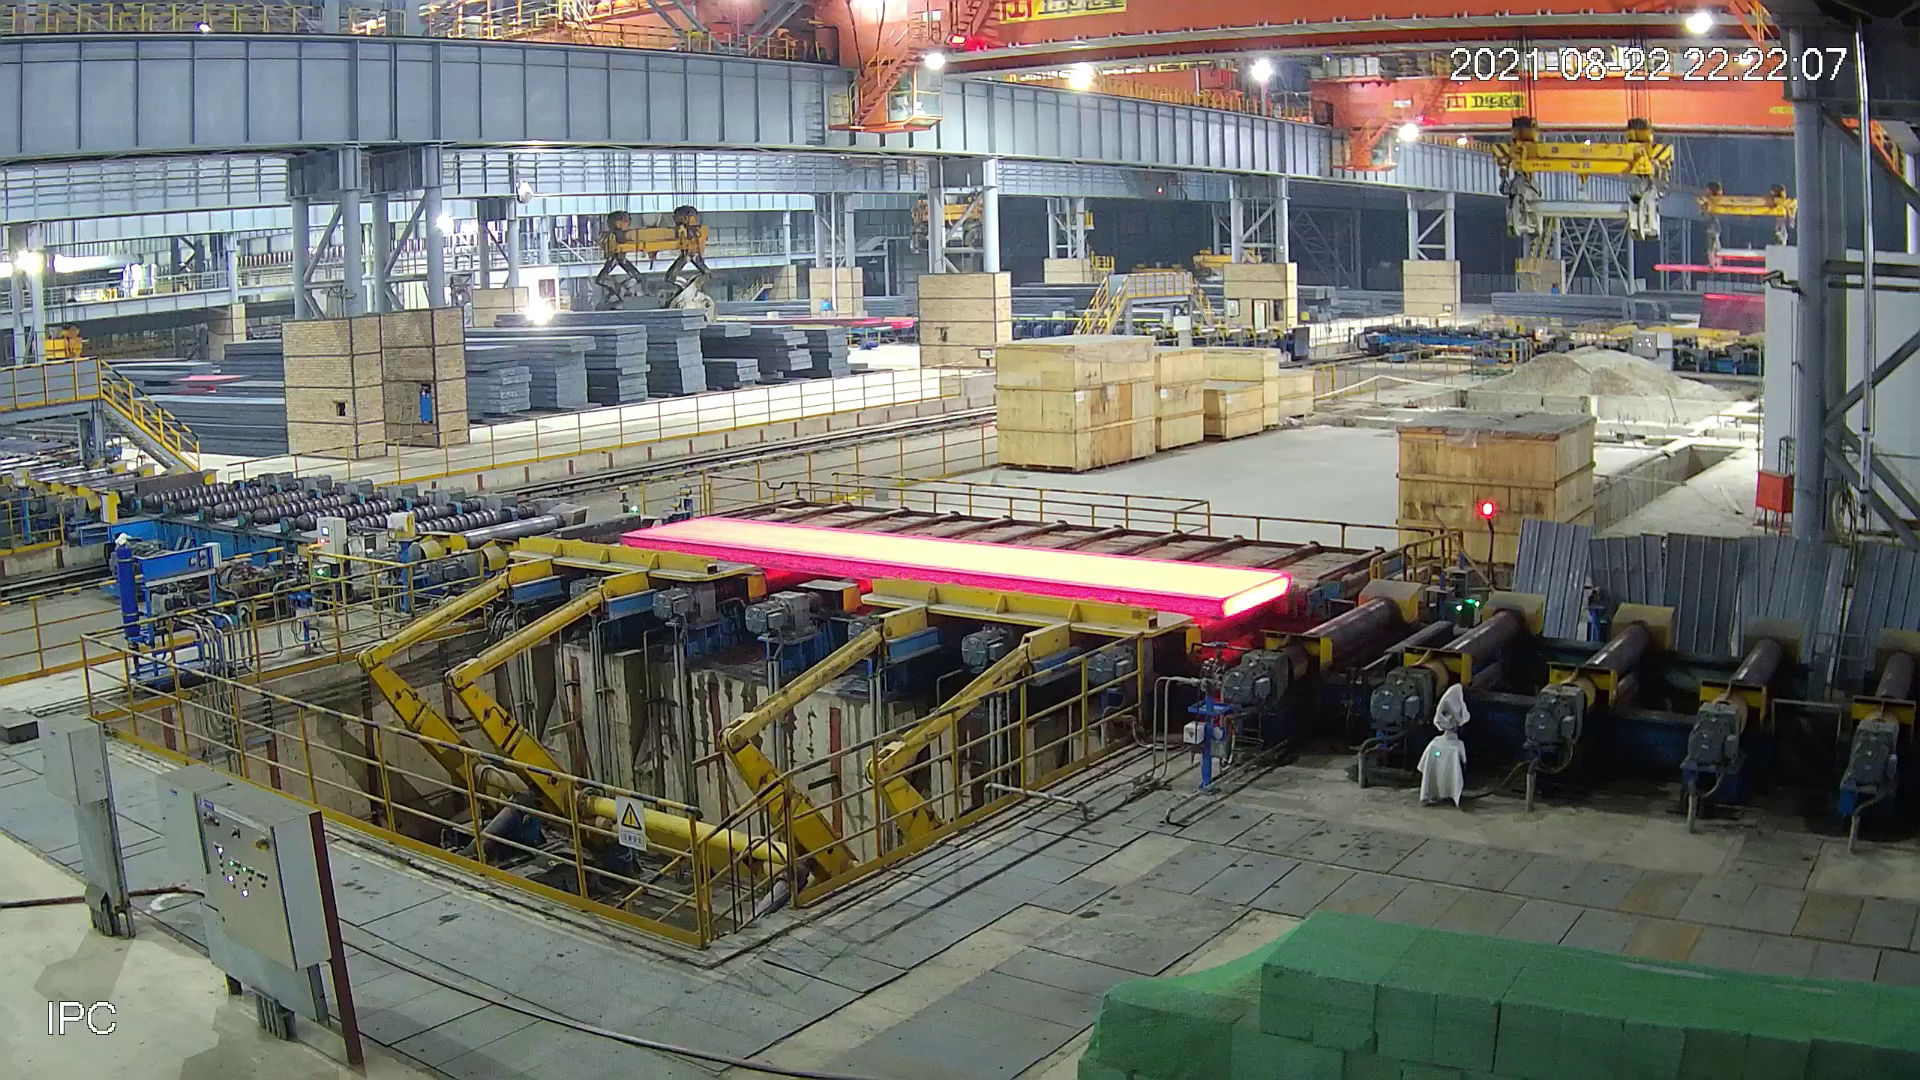slab: (618, 513, 1292, 618)
